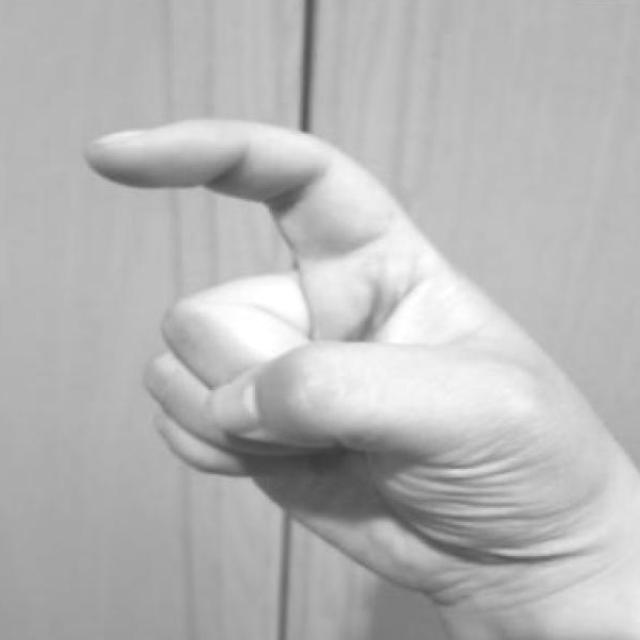X: (72, 96, 639, 640)
